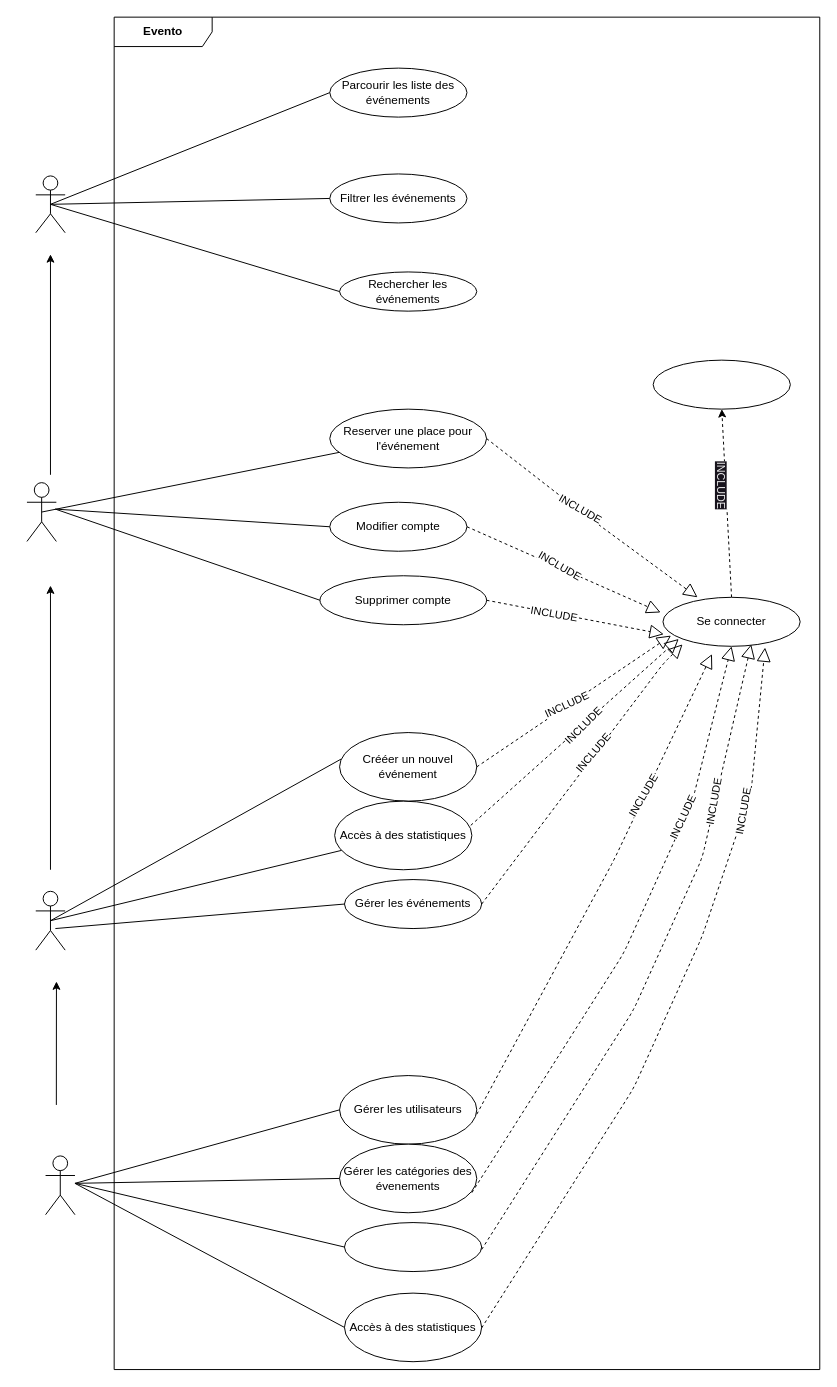
This 837x1387 diagram has some shape labels left out. Each missing label, with the box of its shape:
Admin: (45, 1155, 75, 1215)
Organisateur: (35, 890, 65, 950)
S'incrire: (652, 359, 790, 409)
spectator: (26, 482, 56, 541)
Valider les évenemnts créés: (343, 1222, 482, 1272)
Visionneur: (35, 175, 65, 233)
